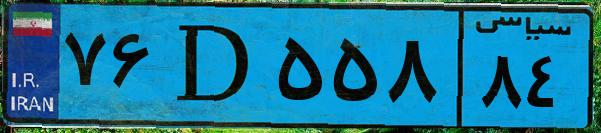4: (525, 38, 570, 115)
5: (270, 28, 330, 110), (330, 28, 385, 110)
6: (110, 28, 158, 98)
7: (57, 26, 110, 100)
8: (385, 28, 445, 110), (475, 38, 525, 113)
D: (158, 12, 270, 120)
